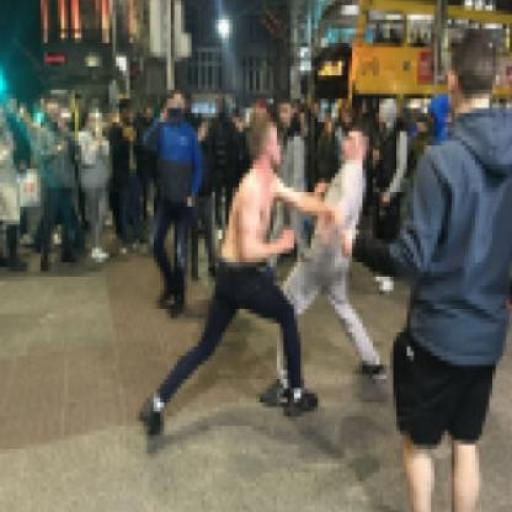Fighting: (136, 112, 392, 437)
